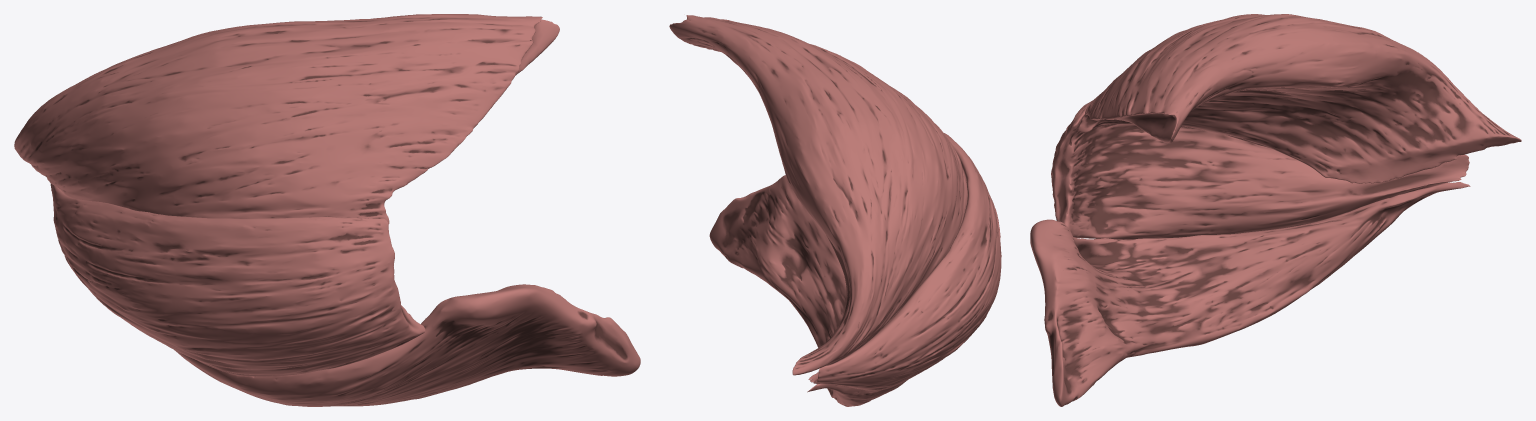
File: deltoid.9a223c470f.glb
3 renders of one model, left to right at view 1: azimuth 30°, elevation 25°; view 2: azimuth 150°, elevation 25°; view 3: azimuth 270°, elevation 25°, orthographic. The views are drawn at different scales.
Visible parts, largest first — view 1: FMA34684, FMA34682, FMA34680; view 2: FMA34684, FMA34682, FMA34680; view 3: FMA34684, FMA34680, FMA34682.
Boxes of the visible parts, left/top/right/bottom form: FMA34684: left=14, top=14, right=559, bottom=223; FMA34682: left=50, top=184, right=425, bottom=376; FMA34680: left=174, top=284, right=640, bottom=406; FMA34684: left=669, top=15, right=967, bottom=375; FMA34682: left=808, top=133, right=1001, bottom=390; FMA34680: left=709, top=175, right=907, bottom=406; FMA34684: left=1077, top=14, right=1521, bottom=183; FMA34680: left=1030, top=182, right=1470, bottom=406; FMA34682: left=1051, top=99, right=1469, bottom=239.
Size of the model in its own units: 145 by 119 by 167.
